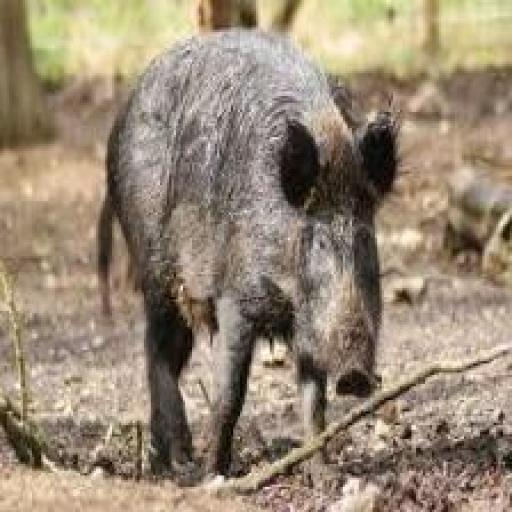Pig: (87, 25, 417, 492)
